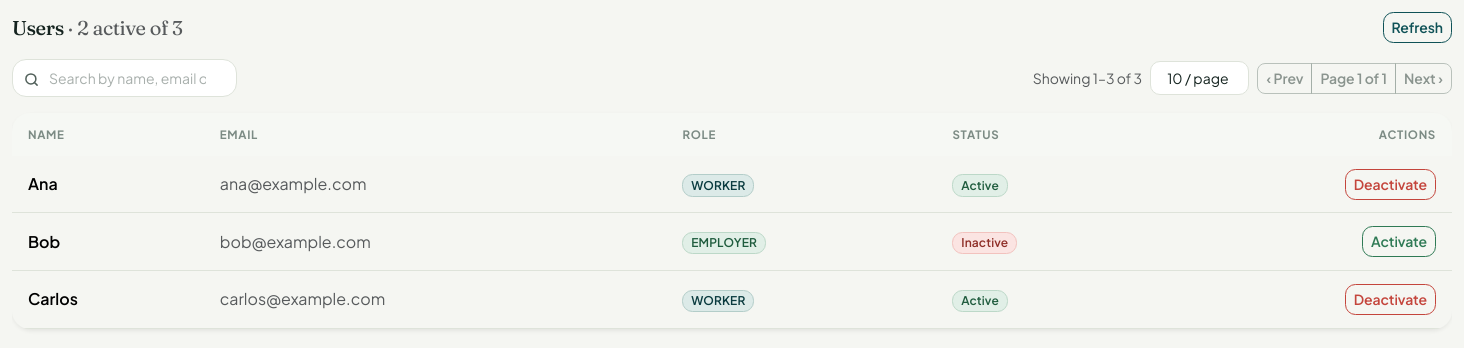
Scenario: UserManagement › filters the table as the admin types a search
The image size is (1464, 348).
Expected: the text "Ana" is shown, [12, 156, 204, 213]
Type "bob" into the search field.
click(124, 78); type("bob")  # box [12, 59, 237, 97]
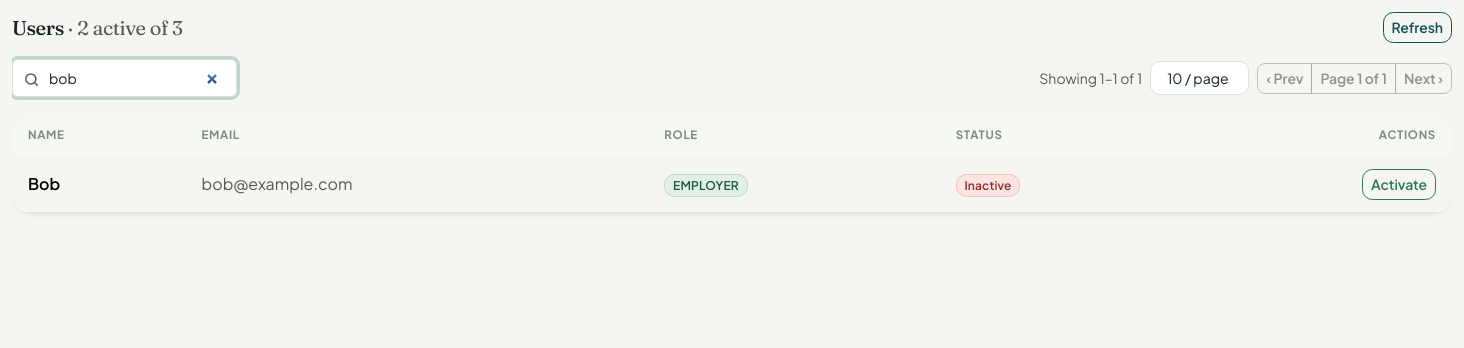
Expected: the text "Ana" is gone
Expected: the text "Carlos" is gone
Expected: the text "Showing 1–1 of 1" is shown, [1039, 68, 1142, 88]
